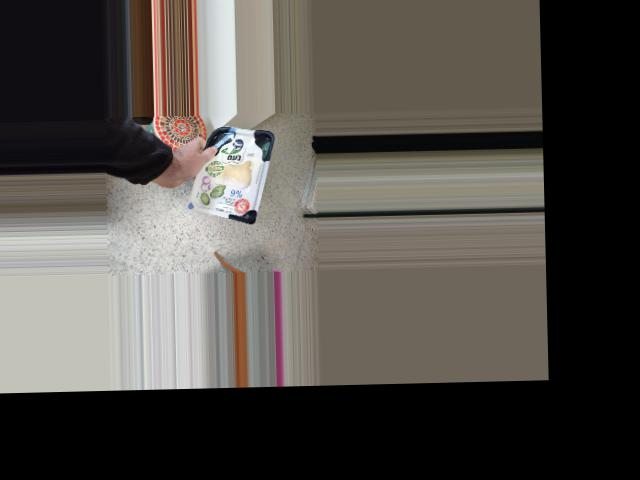cheese: (186, 124, 276, 220)
